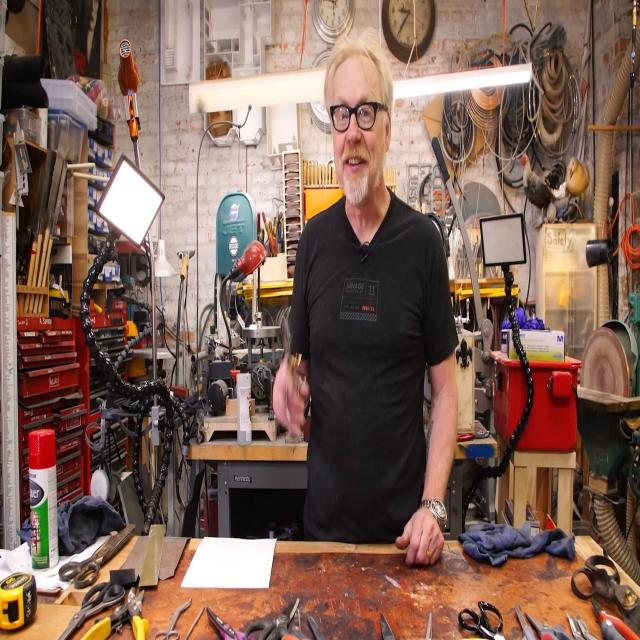scissor: (571, 554, 640, 640), (58, 522, 135, 590), (58, 582, 125, 640), (244, 596, 299, 640), (458, 600, 506, 640), (207, 605, 255, 640), (155, 597, 192, 640), (525, 612, 576, 640), (281, 608, 312, 640), (514, 604, 536, 640)
